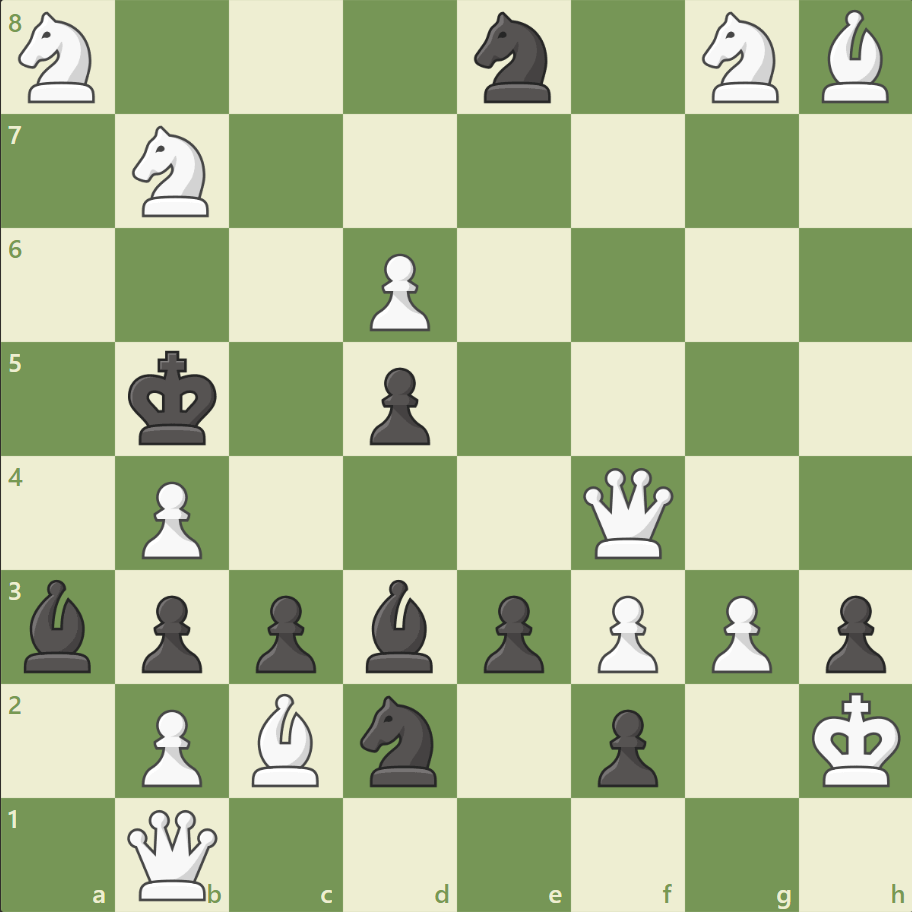B: (812, 6, 896, 109), (244, 687, 328, 790)
K: (806, 685, 906, 793)
N: (124, 121, 222, 223), (11, 7, 108, 110), (692, 7, 789, 110)
P: (133, 473, 208, 564), (701, 586, 776, 677), (133, 700, 208, 791), (361, 246, 435, 337), (588, 586, 662, 677)
Q: (578, 463, 677, 562), (124, 804, 223, 903)
b: (17, 574, 101, 676), (358, 574, 442, 676)
k: (124, 344, 224, 452)
n: (351, 688, 449, 791), (465, 7, 562, 110)
p: (133, 586, 208, 677), (247, 586, 322, 677), (474, 586, 549, 677), (361, 359, 435, 450), (815, 586, 889, 677), (588, 700, 662, 791)
